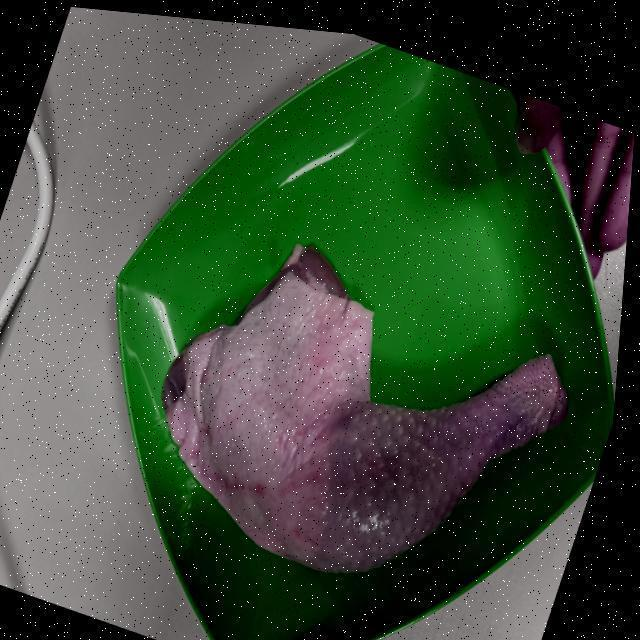quater: (150, 246, 578, 571)
